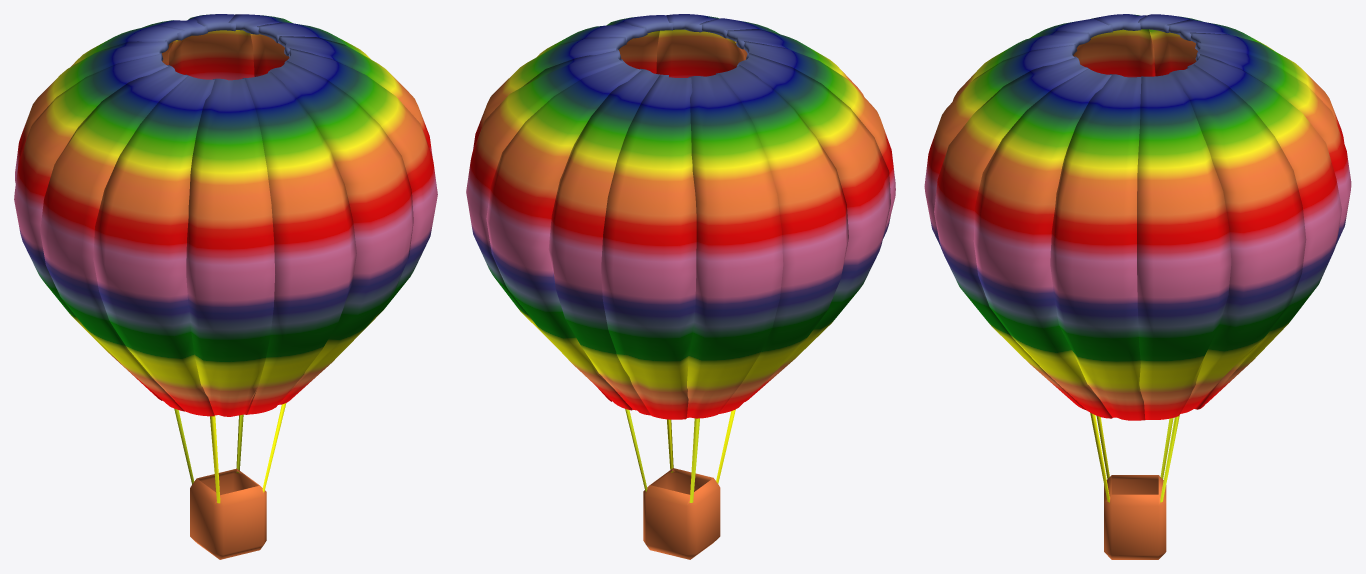
The model's file is hot_ari_balloon_3.glb.
3 renders of one model, left to right at view 1: azimuth 30°, elevation 25°; view 2: azimuth 150°, elevation 25°; view 3: azimuth 270°, elevation 25°, orthographic.
Parts seen in each view (by area): view 1: Object_81; view 2: Object_81; view 3: Object_81.
Part boxes in pixels (x1,y1,x2,y2): Object_81: (14,14,437,559); Object_81: (466,14,895,559); Object_81: (924,14,1351,559).
Size of the model in its own units: 6.09 by 7.85 by 6.07.
1 material, 1 textured.
